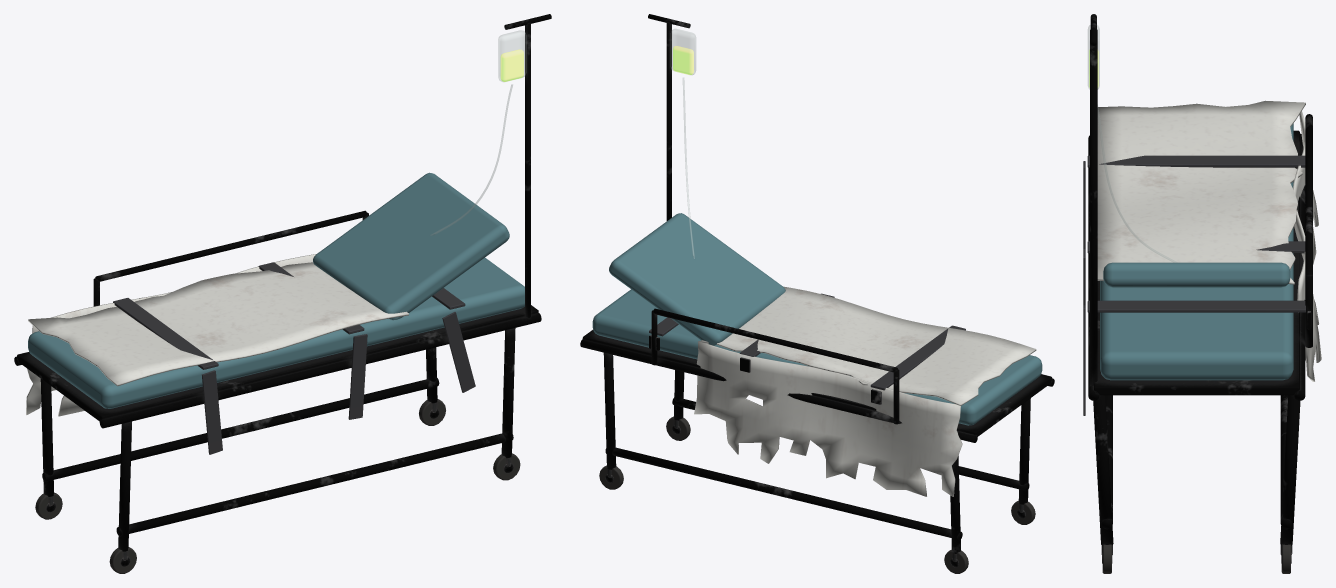
File: camilla.glb
The picture shows the model from 3 angles, left to right: view 1: azimuth 30°, elevation 25°; view 2: azimuth 150°, elevation 25°; view 3: azimuth 270°, elevation 25°; orthographic projection. The views are drawn at different scales.
Visible parts, largest first — view 1: camilla; view 2: camilla; view 3: camilla.
Boxes of the visible parts, x1=… form: camilla: x1=14, y1=14, x2=551, y2=573; camilla: x1=580, y1=14, x2=1054, y2=573; camilla: x1=1083, y1=14, x2=1321, y2=573.
Size of the model in its own units: 2 by 1.96 by 0.7642.
3 materials, 1 textured.
